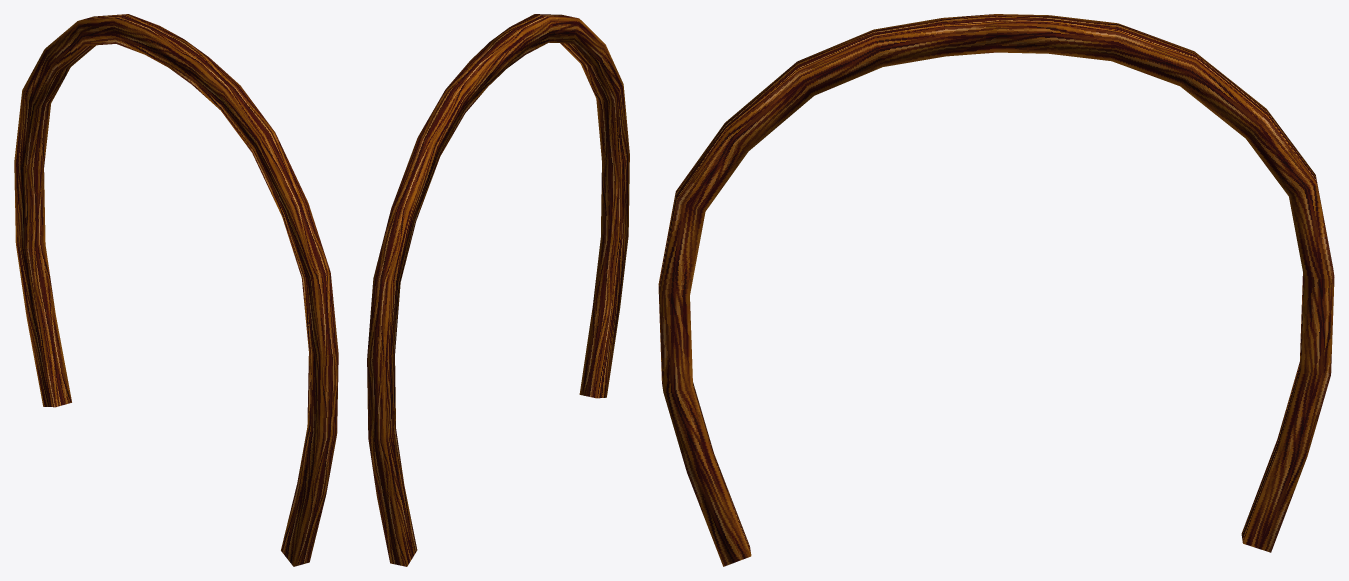
Rendered from EKH_BARRELROOM_PS_JA1_ARCH.fbx.
3 renders of one model, left to right at view 1: azimuth 30°, elevation 25°; view 2: azimuth 150°, elevation 25°; view 3: azimuth 270°, elevation 25°, orthographic. The views are drawn at different scales.
Parts seen in each view (by area): view 1: EKH_BARRELROOM_PS_JA1_ARCH; view 2: EKH_BARRELROOM_PS_JA1_ARCH; view 3: EKH_BARRELROOM_PS_JA1_ARCH.
Part boxes in pixels (left/top/right/bottom): EKH_BARRELROOM_PS_JA1_ARCH: left=14, top=14, right=338, bottom=566; EKH_BARRELROOM_PS_JA1_ARCH: left=367, top=14, right=629, bottom=566; EKH_BARRELROOM_PS_JA1_ARCH: left=658, top=14, right=1334, bottom=566.
Size of the model in its own units: 3858 by 35378 by 40432.
Materials: 1 (1 with a texture image).
